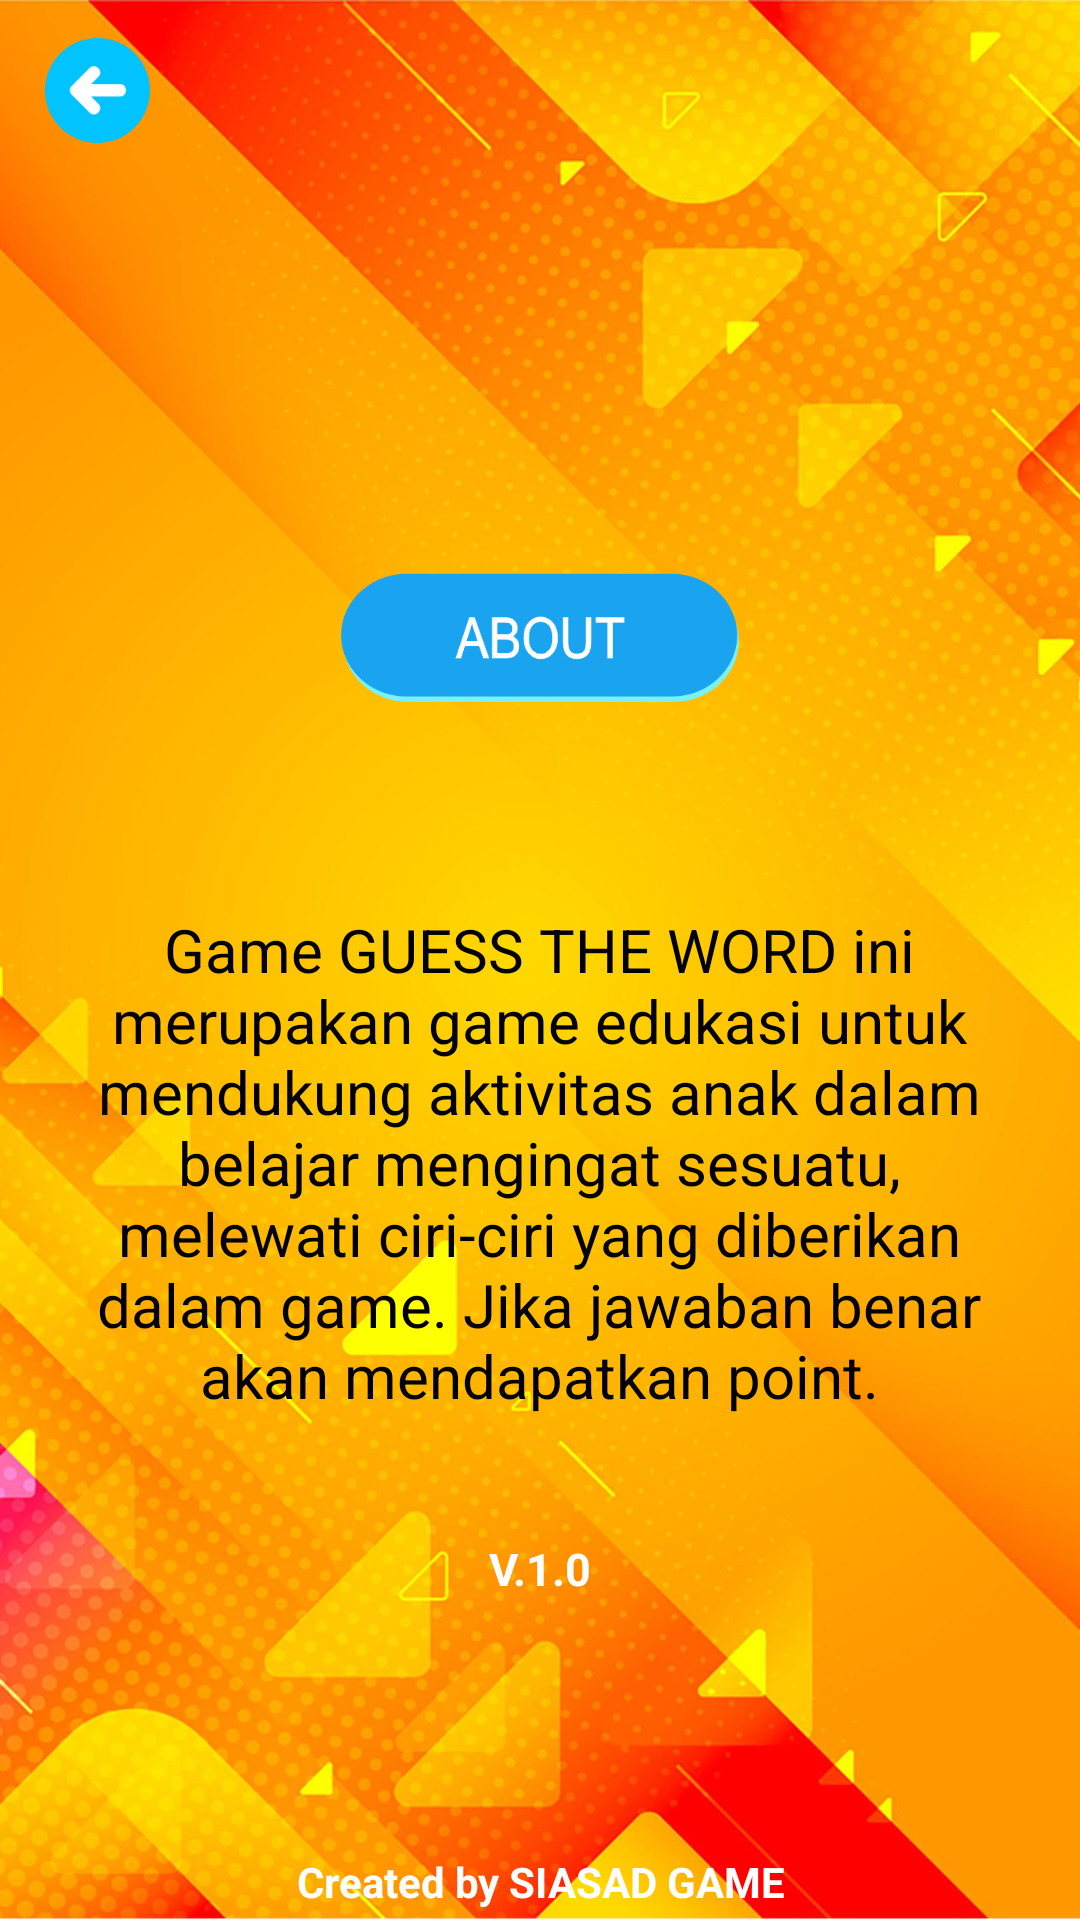

Locate icon controls on the screen. Image size 1080px×1920px, boxes as [left=x1, top=y1, right=x2, bottom=y2].
btnback: [left=45, top=38, right=150, bottom=143]
